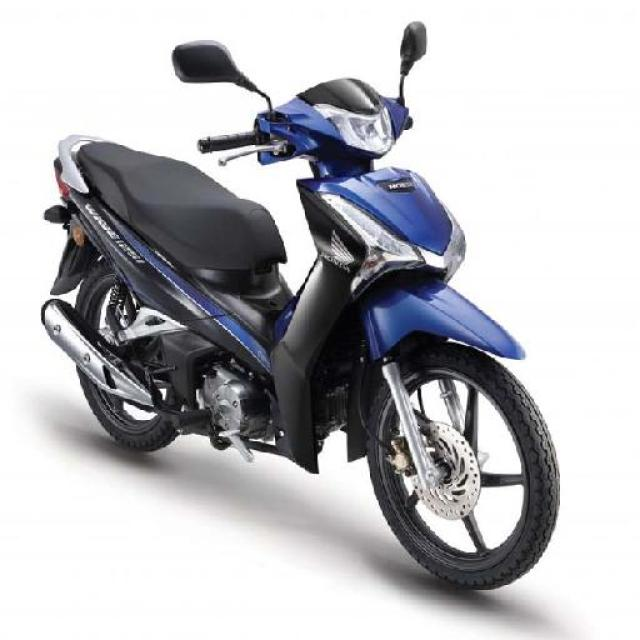All: (31, 74, 567, 593)
Head: (198, 78, 427, 163)
Tail: (44, 128, 124, 208)
